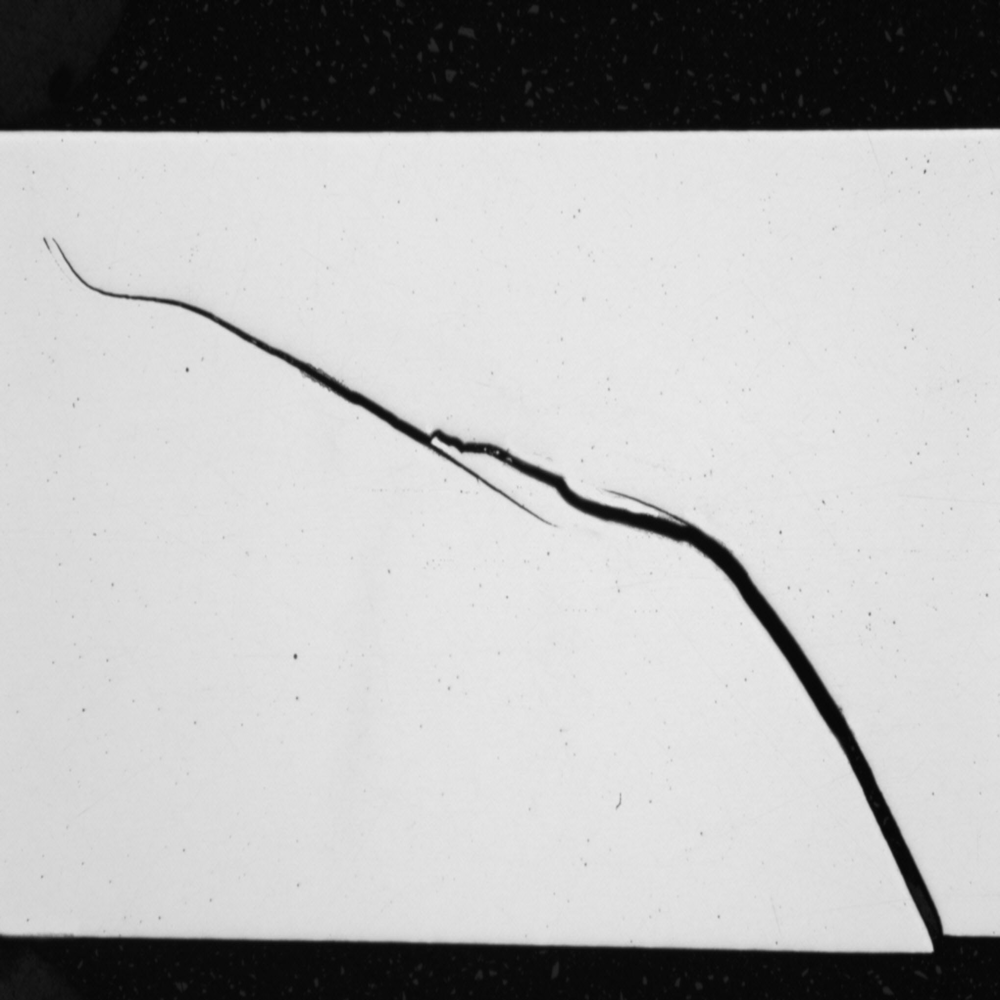crack: (17, 222, 962, 942)
